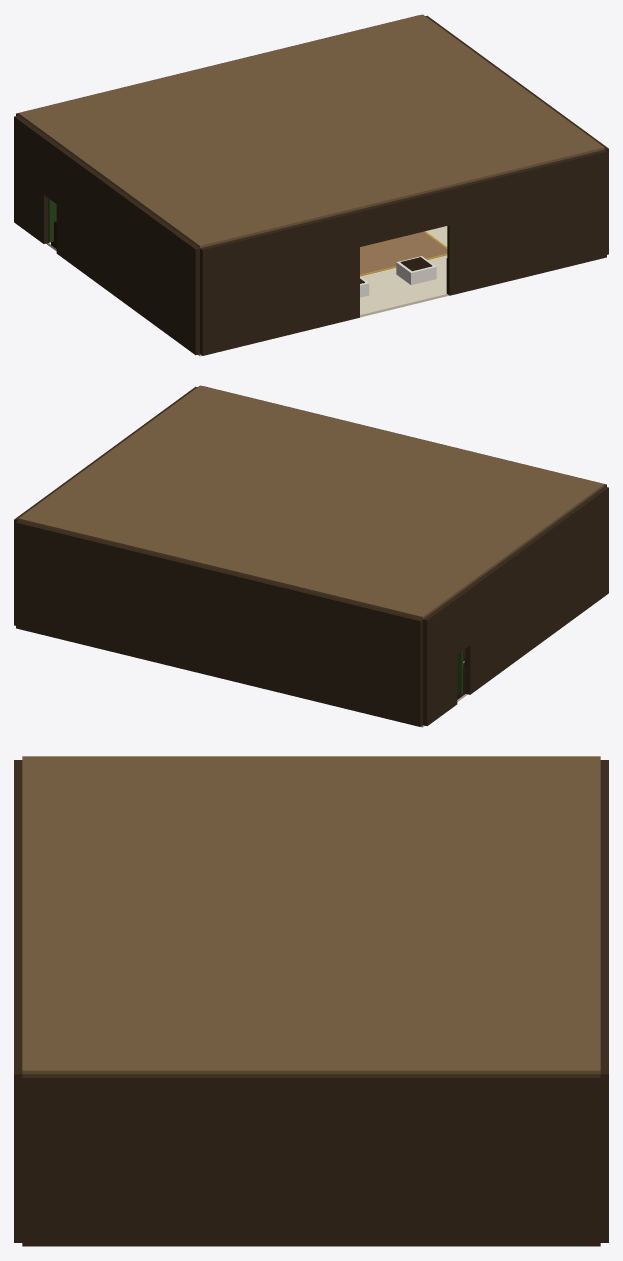
3 views of the same model, one above another, from view 1: azimuth 30°, elevation 25°; view 2: azimuth 150°, elevation 25°; view 3: azimuth 270°, elevation 25° (orthographic). The views are drawn at different scales.
Visible parts, largest first — view 1: Z2_Ceiling, Z2_Wall_S_Seg_L, Z2_Wall_S_Seg_R, Z2_Wall_W_Seg_S, Z2_Wall_W_Seg_N, Z2_Wall_S_Lintel, Z2_Floor, Z2_DanceFloor, Z2_Wall_W_Lintel, Z2_Wall_E, Z2_Table_T06_Lola_Cloth; view 2: Z2_Ceiling, Z2_Wall_N, Z2_Wall_W_Seg_S, Z2_Wall_W_Seg_N, Z2_Wall_W_Lintel, Z2_Wall_E; view 3: Z2_Ceiling, Z2_Wall_E, Z2_Wall_N, Z2_Wall_S_Seg_R, Z2_Wall_S_Seg_L.
Boxes of the visible parts, <box> form: Z2_Ceiling: <box>18,14,604,248</box>; Z2_Wall_S_Seg_L: <box>200,210,359,355</box>; Z2_Wall_S_Seg_R: <box>447,149,606,295</box>; Z2_Wall_W_Seg_S: <box>56,147,199,355</box>; Z2_Wall_W_Seg_N: <box>14,115,48,243</box>; Z2_Wall_S_Lintel: <box>358,188,449,246</box>; Z2_Floor: <box>46,226,448,356</box>; Z2_DanceFloor: <box>360,232,447,274</box>; Z2_Wall_W_Lintel: <box>44,137,60,203</box>; Z2_Wall_E: <box>425,15,608,254</box>; Z2_Table_T06_Lola_Cloth: <box>396,256,436,285</box>; Z2_Ceiling: <box>18,385,604,619</box>; Z2_Wall_N: <box>16,520,422,726</box>; Z2_Wall_W_Seg_S: <box>465,486,608,694</box>; Z2_Wall_W_Seg_N: <box>423,597,457,726</box>; Z2_Wall_W_Lintel: <box>453,588,470,654</box>; Z2_Wall_E: <box>14,386,197,625</box>; Z2_Ceiling: <box>22,756,600,1074</box>; Z2_Wall_E: <box>22,1074,600,1246</box>; Z2_Wall_N: <box>600,760,608,1242</box>; Z2_Wall_S_Seg_R: <box>14,952,22,1242</box>; Z2_Wall_S_Seg_L: <box>14,760,22,882</box>.
Bounding box in the file's own units: 18.4 × 4.7 × 14.4.
